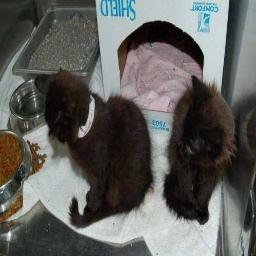cat: (38, 67, 240, 239)
